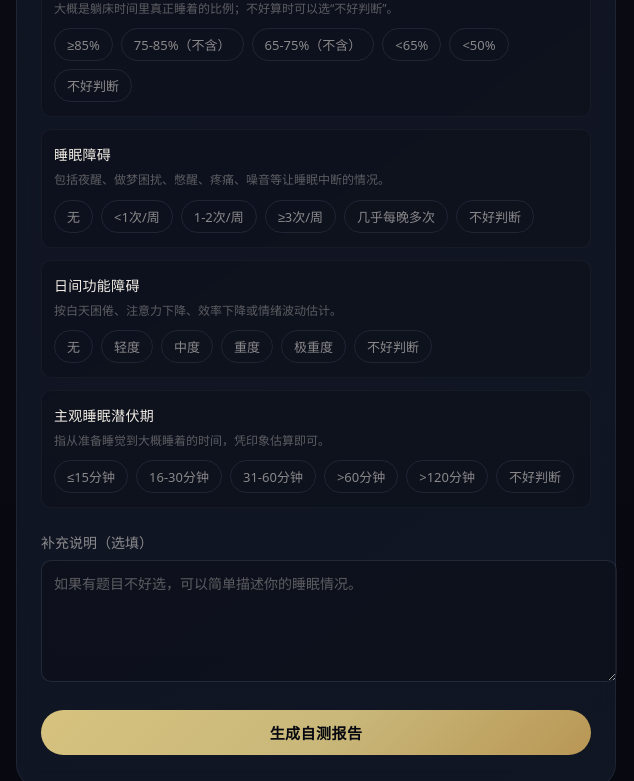
AssessmentPage › requires all answers before showing report
The image size is (634, 781).
(page scrolled)
Note: Try to submit without answering
Step 1. Click the button "生成自测报告" → click(316, 732), box [41,710,591,755]
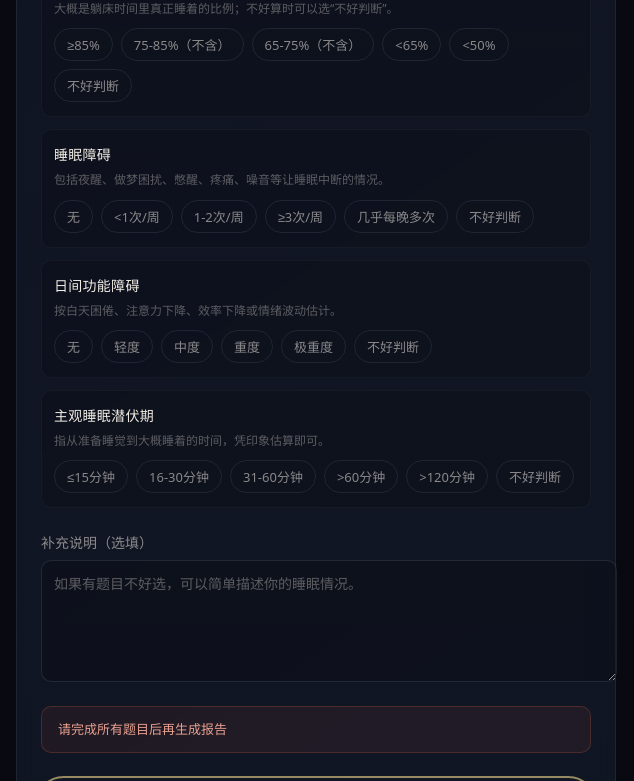
Now the text "请完成所有题目后再生成报告" is shown, box [41,706,591,753]
